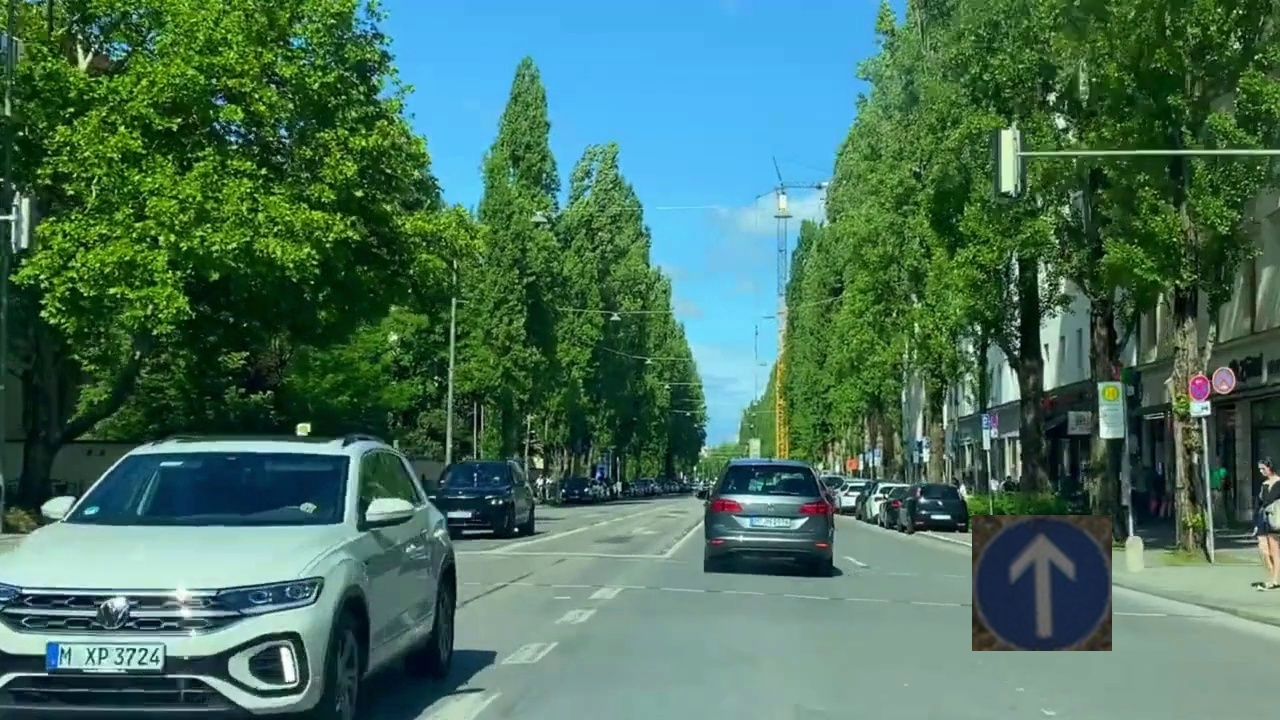Ahead only: (972, 515, 1112, 651)
